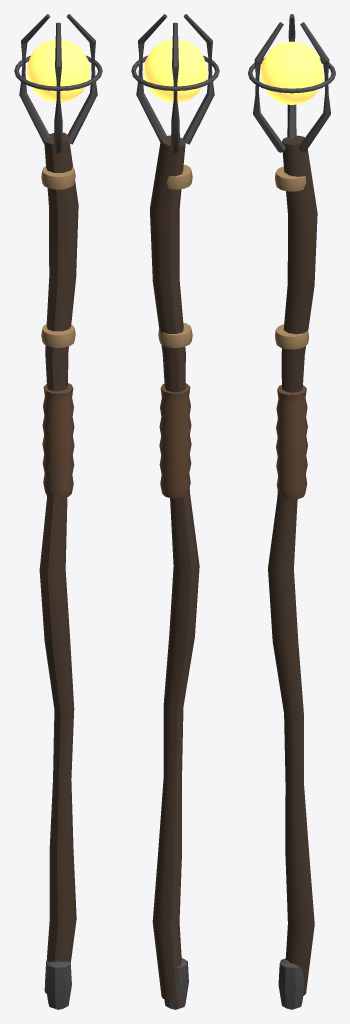
The model's file is cinderheart_staff.glb.
The picture shows the model from 3 angles, left to right: view 1: azimuth 30°, elevation 25°; view 2: azimuth 150°, elevation 25°; view 3: azimuth 330°, elevation 25°; orthographic projection.
Parts seen in each view (by area): view 1: cinderheart_staff; view 2: cinderheart_staff; view 3: cinderheart_staff.
Part boxes in pixels (<box>): cinderheart_staff: <box>14,14,102,1009</box>; cinderheart_staff: <box>131,14,219,1009</box>; cinderheart_staff: <box>248,14,335,1009</box>.
Bounding box in the file's own units: 0.1514 × 1.88 × 0.1512.
